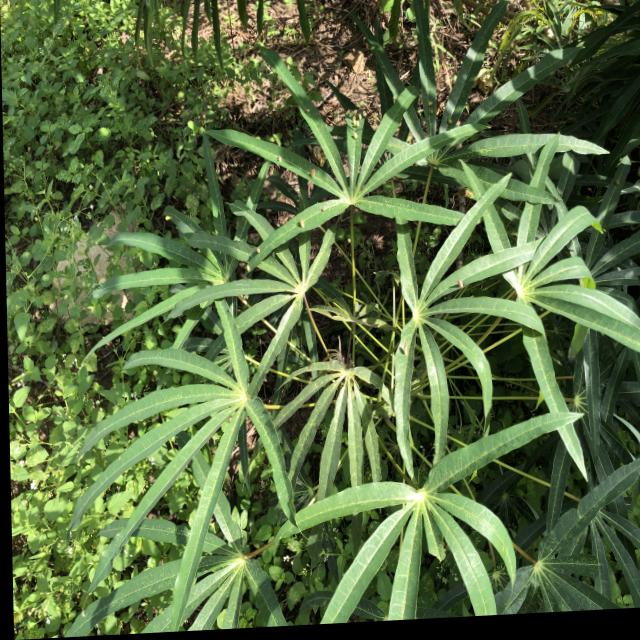Maleza: (0, 122, 80, 640), (0, 0, 208, 195)
Mosca: (394, 335, 416, 362), (349, 108, 366, 142), (290, 214, 307, 237), (449, 275, 470, 291), (275, 151, 292, 170), (308, 163, 322, 180), (250, 239, 262, 258), (298, 105, 317, 116), (241, 261, 253, 276)
